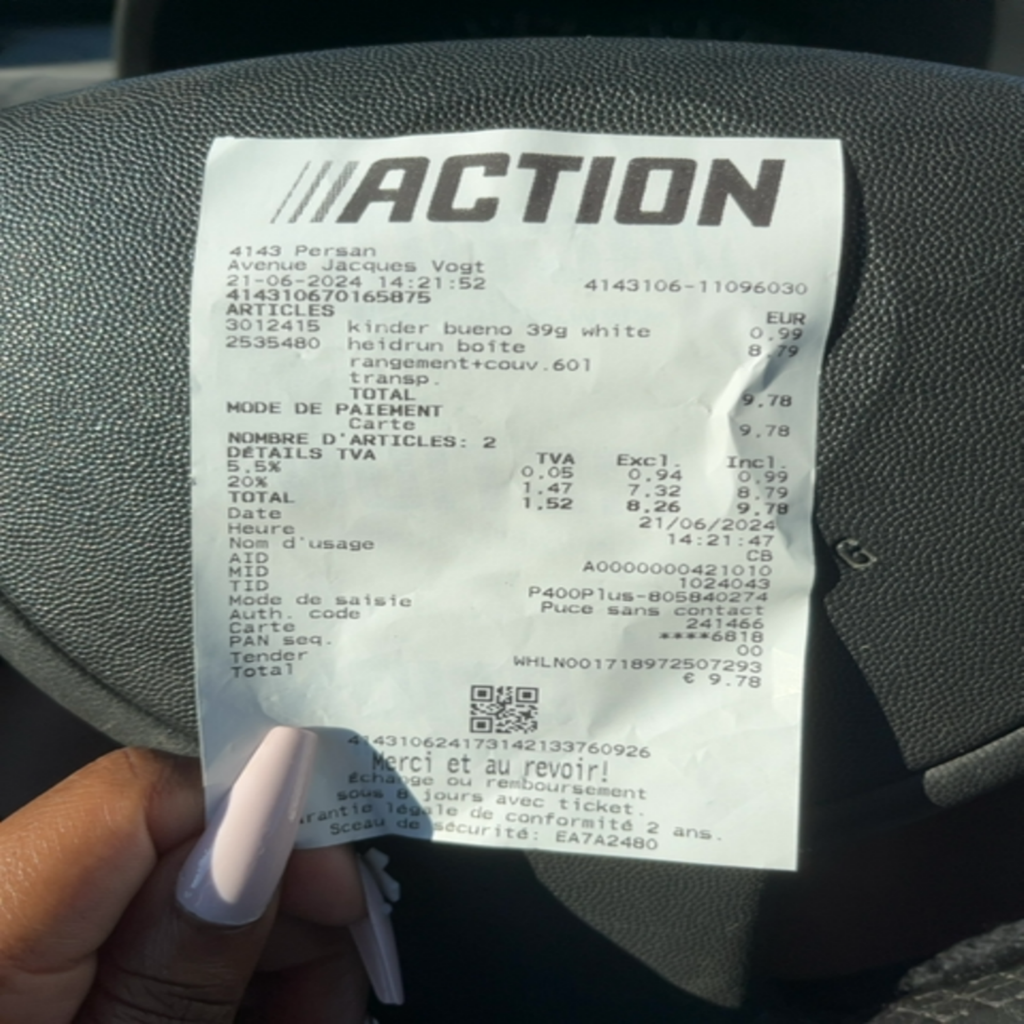recipt: (189, 126, 846, 869)
